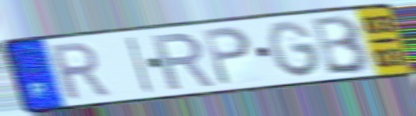B: (310, 12, 373, 77)
G: (266, 19, 324, 80)
I: (125, 34, 156, 95)
P: (200, 24, 254, 88)
R: (46, 40, 114, 103), (149, 31, 218, 92)
